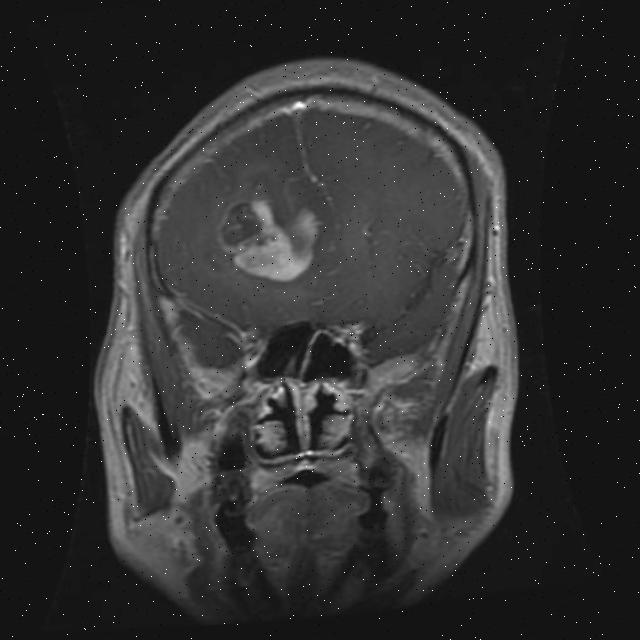Glioma: (213, 189, 321, 289)
